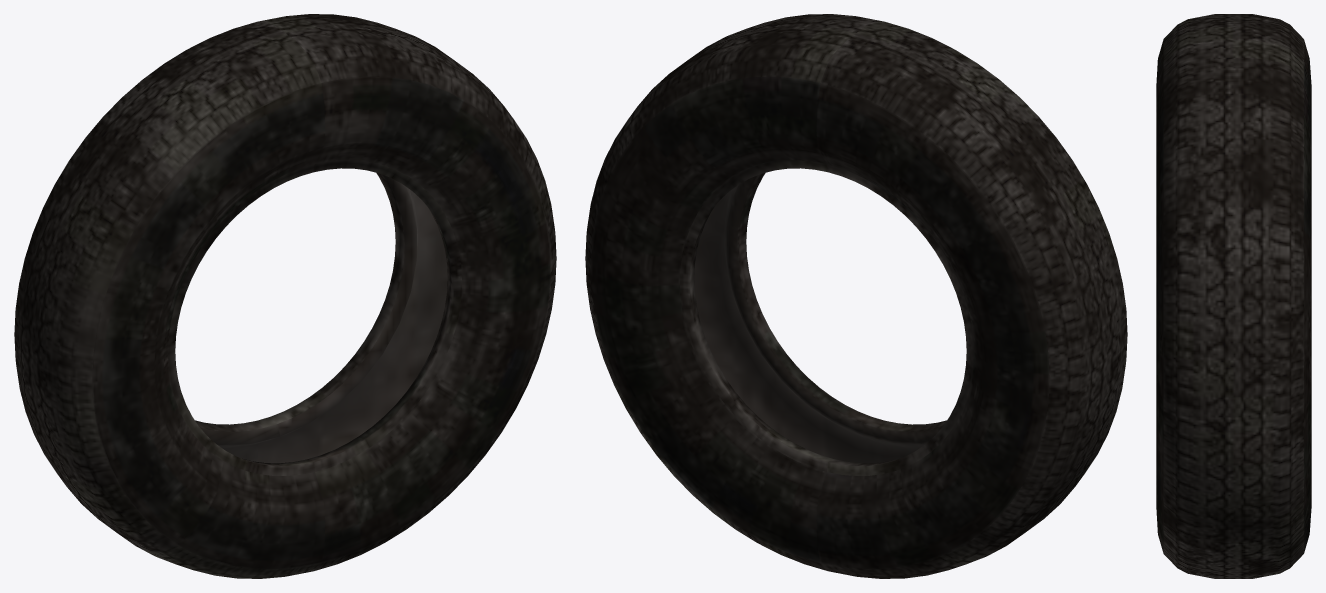
Rendered from old_tyre.gltf.
3 views of the same model, side by side, from view 1: azimuth 30°, elevation 25°; view 2: azimuth 150°, elevation 25°; view 3: azimuth 270°, elevation 25° (orthographic). The views are drawn at different scales.
Visible parts, largest first — view 1: old_tyre; view 2: old_tyre; view 3: old_tyre.
Part boxes in pixels (x1,y1,x2,y2): old_tyre: (14,14,556,578); old_tyre: (585,14,1127,578); old_tyre: (1156,14,1311,578).
Size of the model in its own units: 0.6 by 0.6 by 0.165.
1 material, 1 textured.
